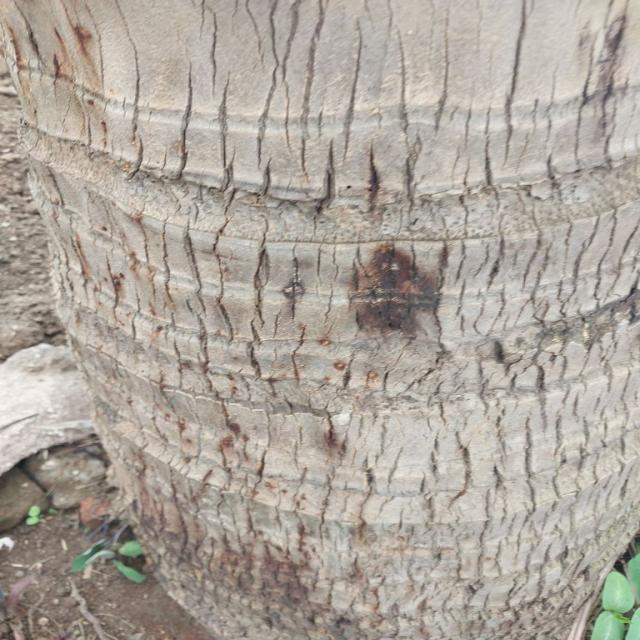stembleeding: (275, 195, 453, 424), (137, 449, 308, 632)
